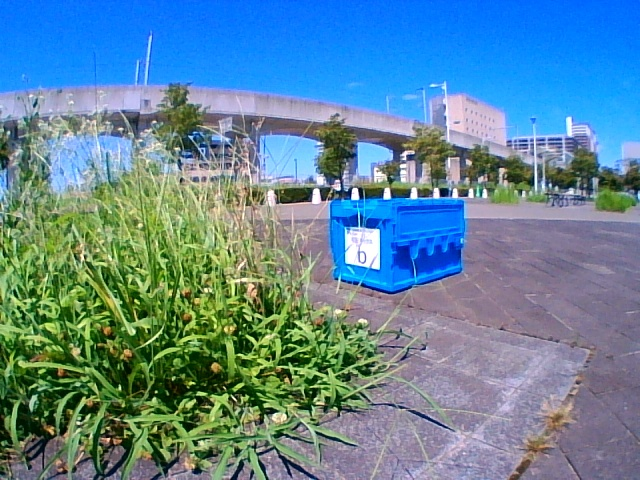blue_box: (331, 200, 462, 272)
tag_b: (346, 230, 379, 265)
